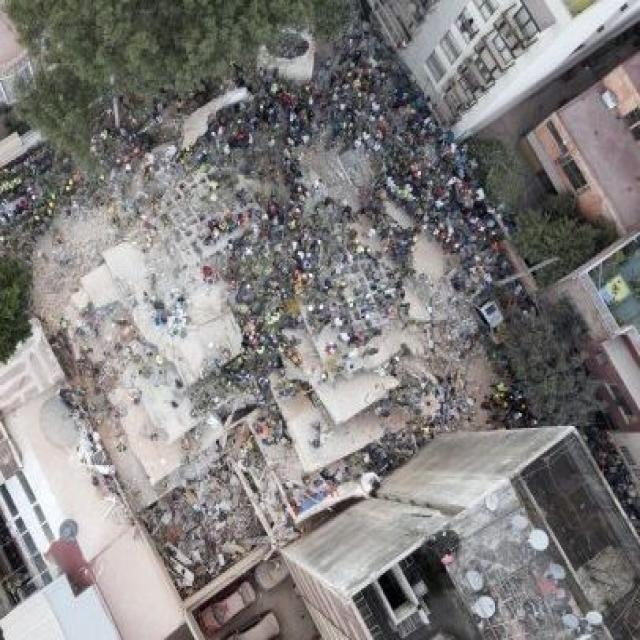collapsed_building: (66, 128, 418, 493)
